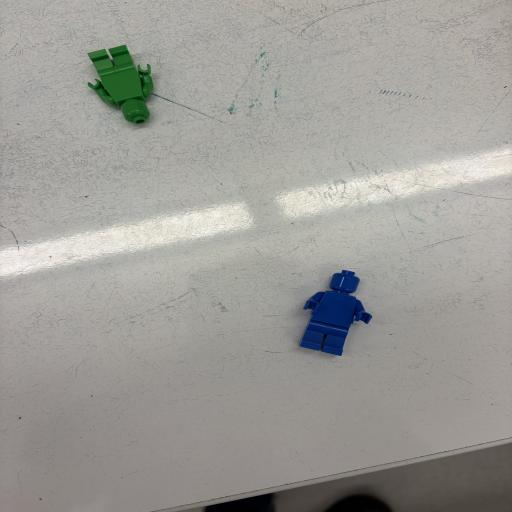Blue-Lego: (300, 270, 372, 355)
Green-Lego: (88, 45, 153, 125)
